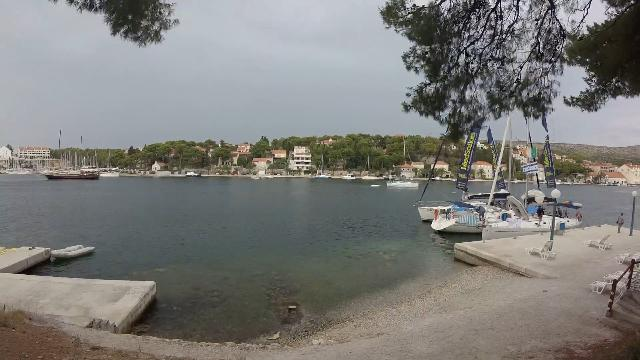Freighter: (34, 165, 108, 183)
Sailboat: (379, 173, 421, 191)
